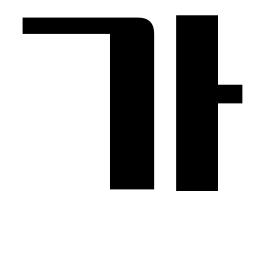Gaji: (166, 69, 234, 127)
